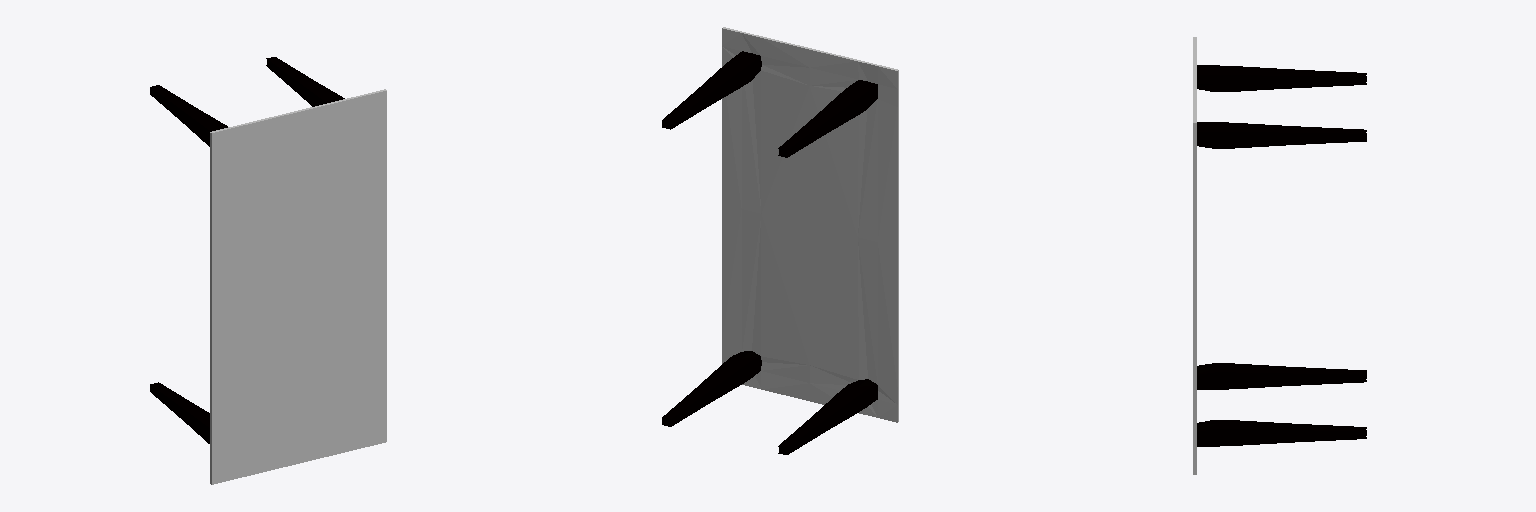
The model's file is Tablelegs.obj.
The picture shows the model from 3 angles: view 1: azimuth 30°, elevation 25°; view 2: azimuth 150°, elevation 25°; view 3: azimuth 270°, elevation 25°; orthographic projection.
Visible parts, largest first — view 1: Cube.015, Cube.017; view 2: Cube.015, Cube.017; view 3: Cube.017, Cube.015.
Part boxes in pixels (bbox=[...]): Cube.015: bbox=[210, 89, 386, 484]; Cube.017: bbox=[150, 57, 344, 443]; Cube.015: bbox=[722, 27, 898, 422]; Cube.017: bbox=[662, 51, 877, 454]; Cube.017: bbox=[1197, 65, 1366, 446]; Cube.015: bbox=[1193, 37, 1196, 474].
Size of the model in its own units: 0.5744 by 1.1 by 0.4911.